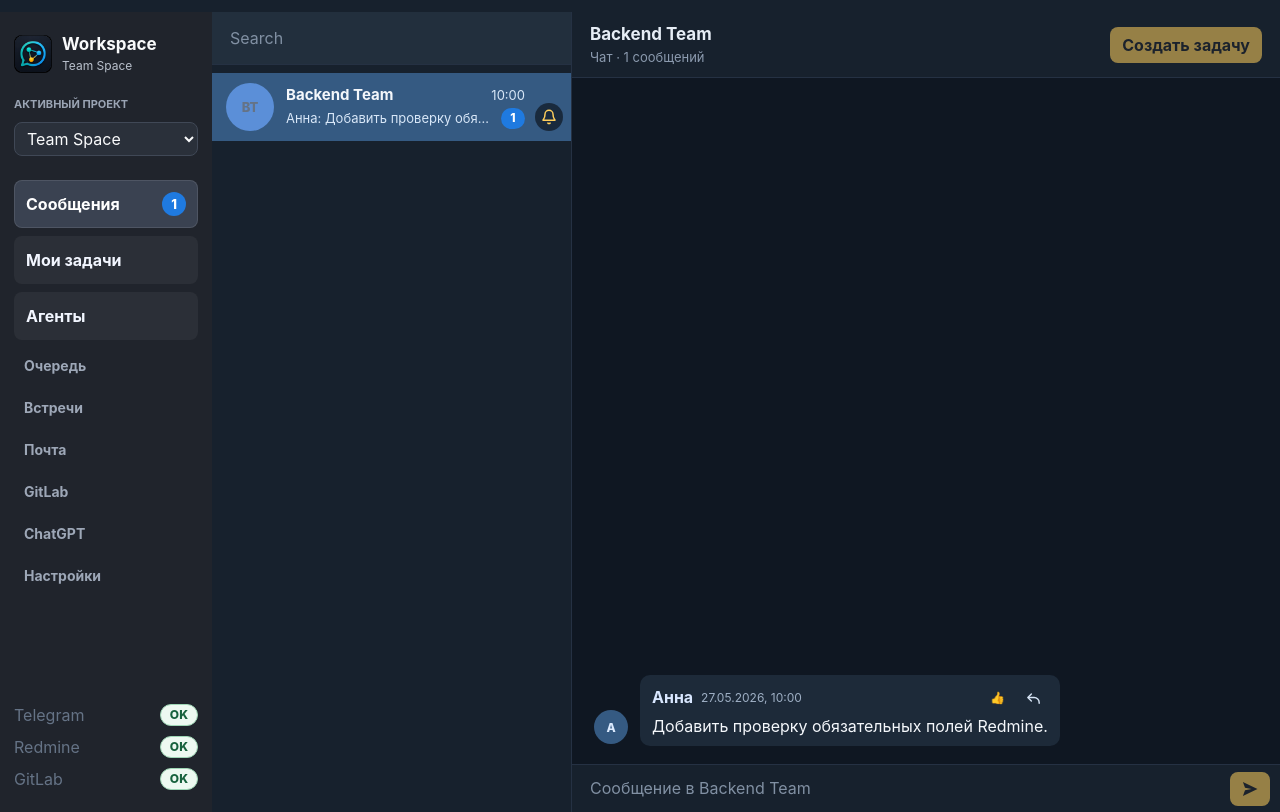
Test: App › toggles chat notifications in Inbox
Expected: the heading "Backend Team" is shown, [590,24,712,46]
Click the button named "Отключить уведомления: Backend Team" at (549, 117), box [535,103,563,131]
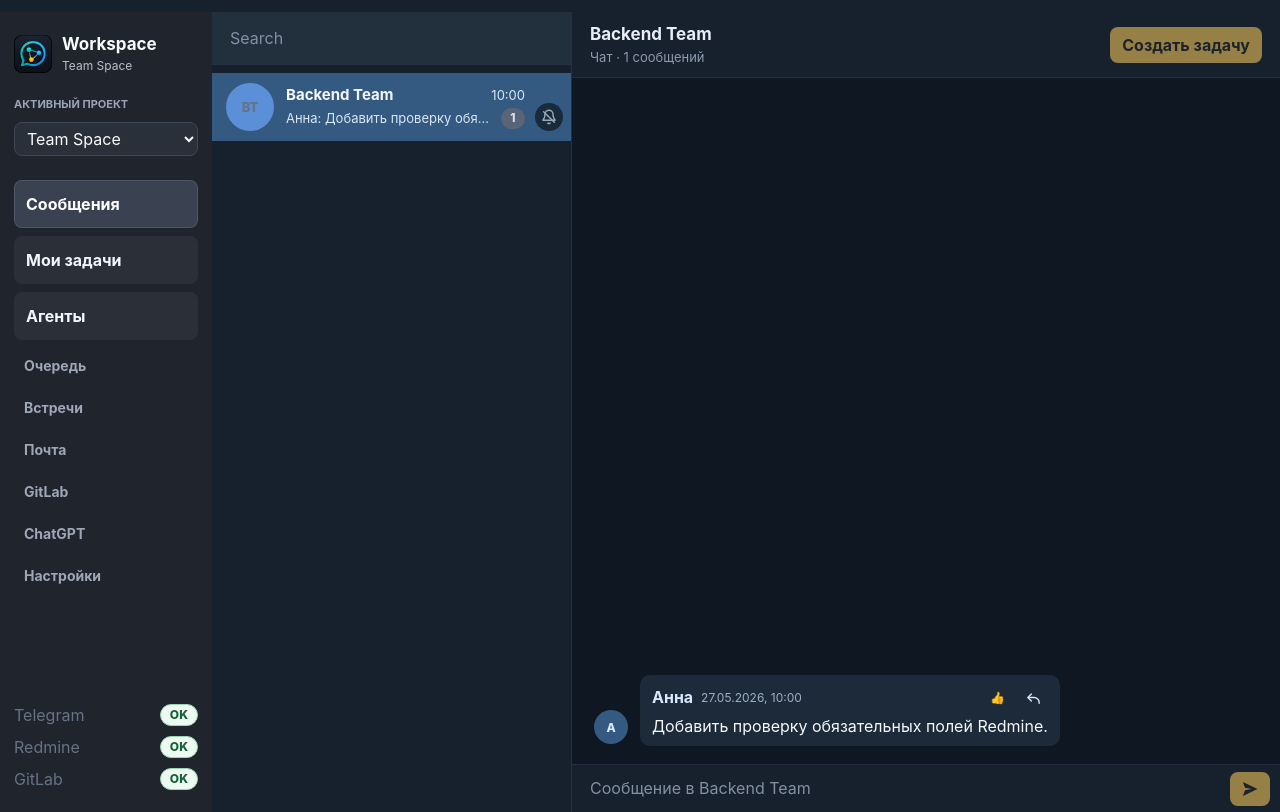
Now the button named "Включить уведомления: Backend Team" is shown, box [535,103,563,131]
